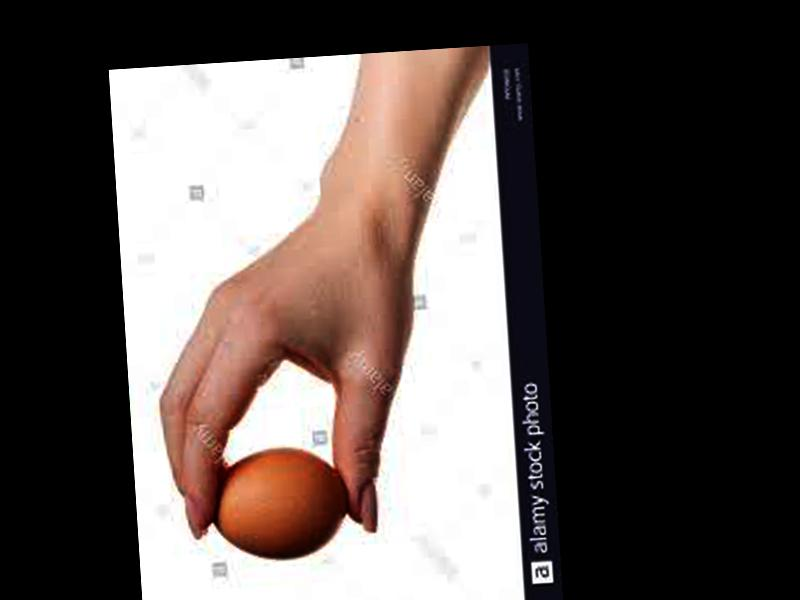Eggs: (209, 442, 348, 562)
